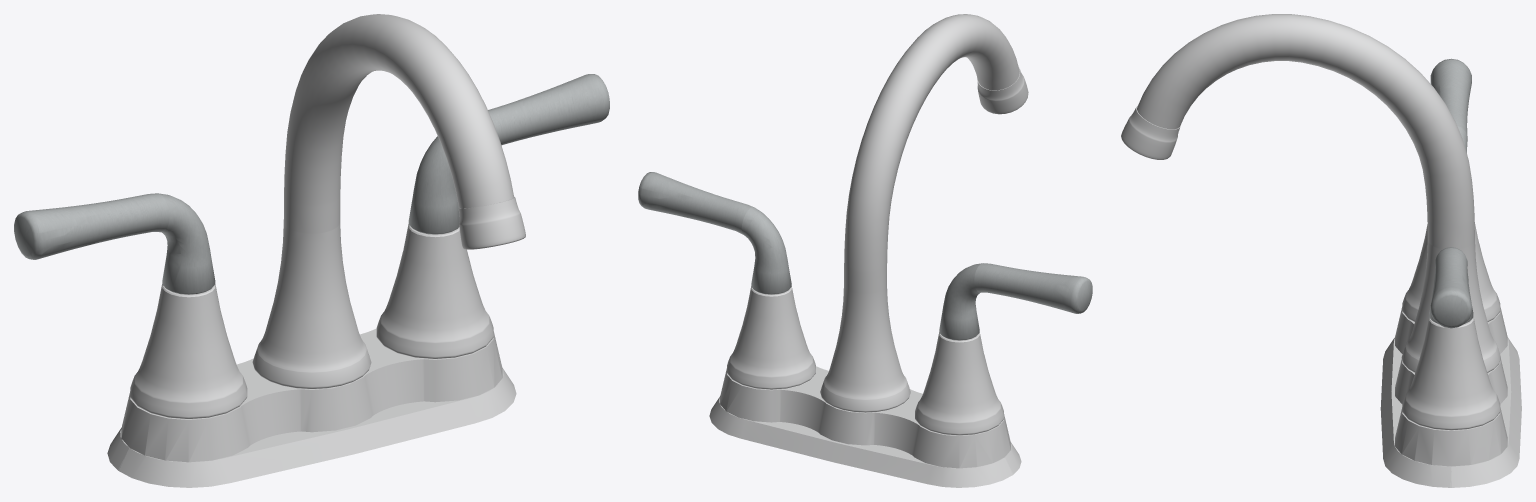
Rendered from sink-faucet-3.glb.
3 views of the same model, side by side, from view 1: azimuth 30°, elevation 25°; view 2: azimuth 150°, elevation 25°; view 3: azimuth 270°, elevation 25° (orthographic). The views are drawn at different scales.
Visible parts, largest first — view 1: 3DGeom-3; view 2: 3DGeom-3; view 3: 3DGeom-3.
Boxes of the visible parts, box(x1,y1,x2,y2) form: 3DGeom-3: box(14, 14, 609, 487); 3DGeom-3: box(638, 14, 1092, 487); 3DGeom-3: box(1121, 14, 1521, 487).
Size of the model in its own units: 0.2397 by 0.1847 by 0.1709.
2 materials, 1 textured.
